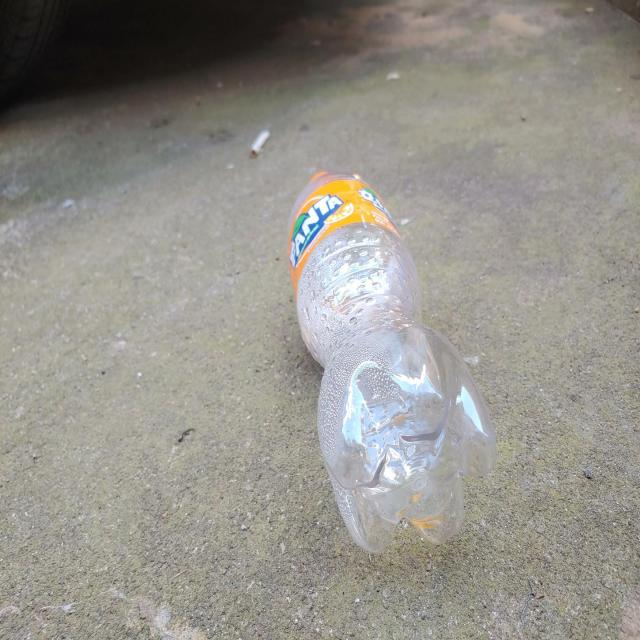plastic: (288, 173, 497, 553)
